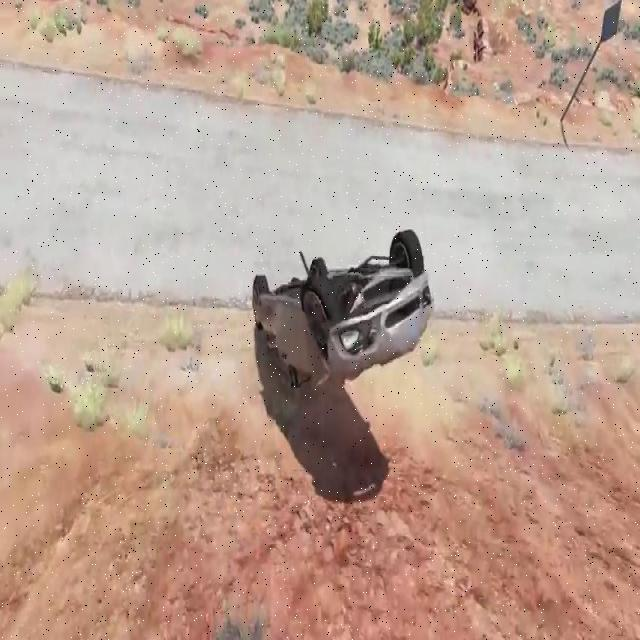severe: (249, 218, 436, 390)
